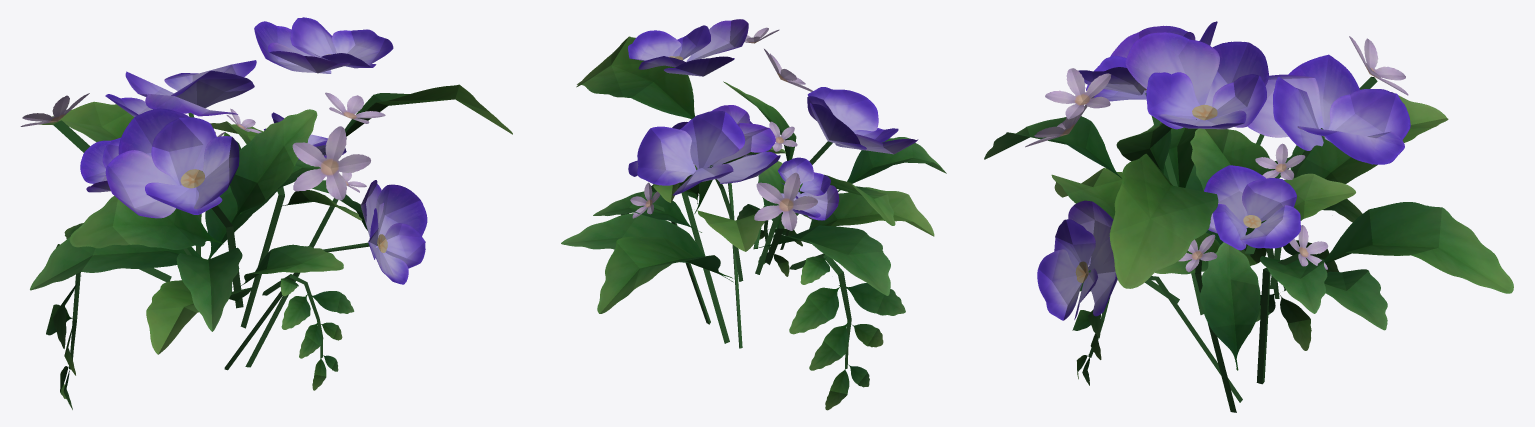
File: P_FlowerSansejing_04.obj
3 renders of one model, left to right at view 1: azimuth 30°, elevation 25°; view 2: azimuth 150°, elevation 25°; view 3: azimuth 270°, elevation 25°, orthographic. The views are drawn at different scales.
Bounding box in the file's own units: 0.5016 × 0.4033 × 0.4767.
1 material, 1 textured.
